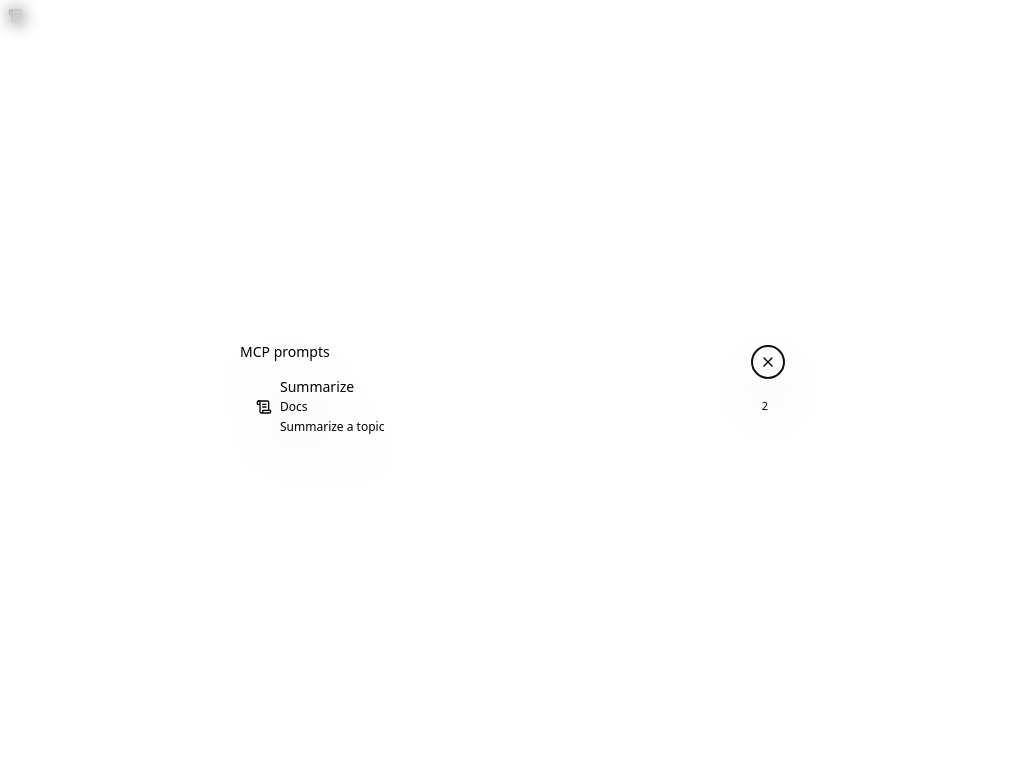
MCP picker workflows › reports prompt resolution invalid failures without losing arguments
The width and height of the screenshot is (1024, 768).
Click the button "Summarize Docs Summarize a topic 2".
click(264, 407)  # box [232,382,792,430]
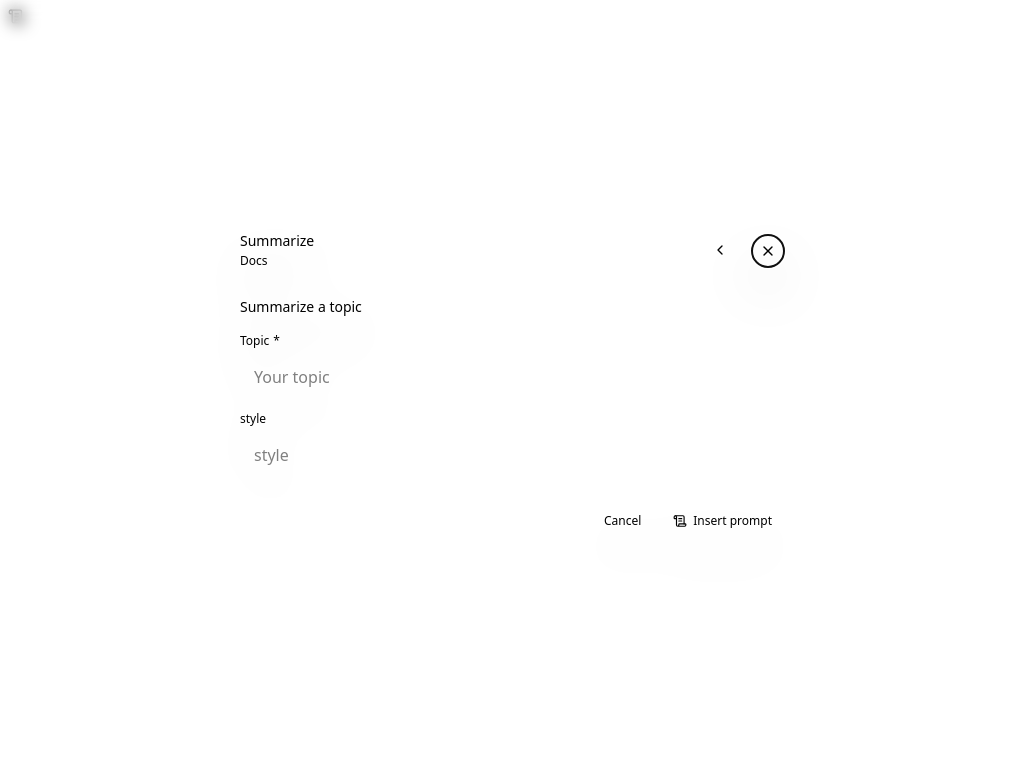
Type "keep me" into the field labelled "Topic *".
click(512, 377); type("keep me")  # box [240,355,784,399]
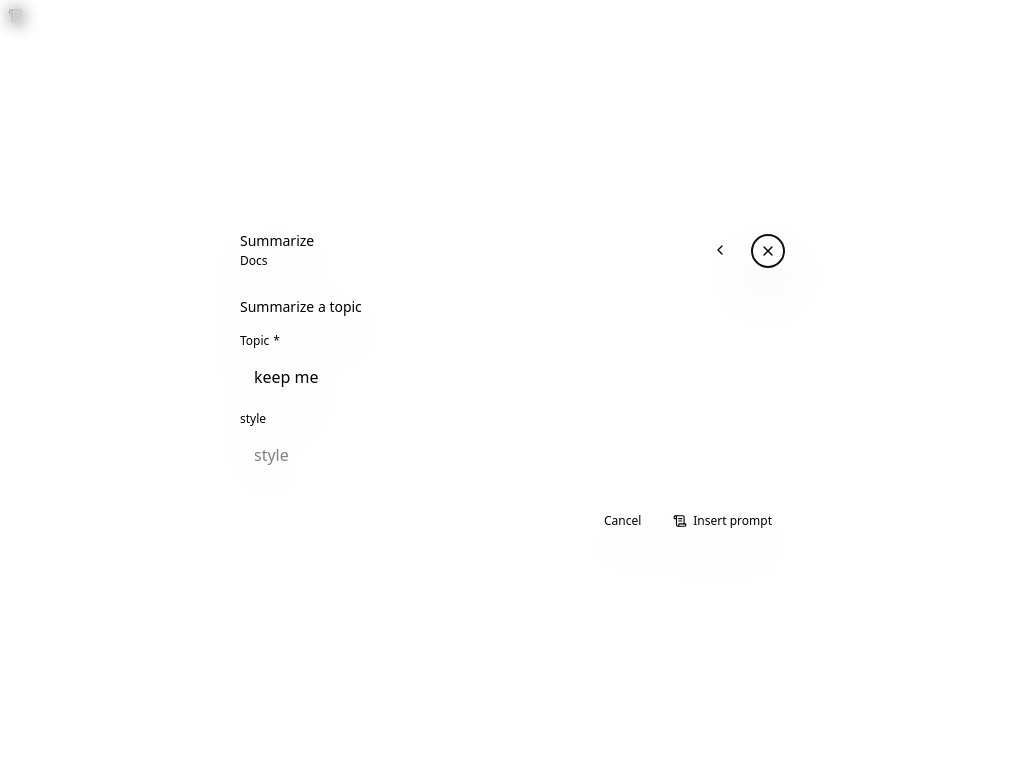
Submit the form labelled "Summarize a topic Topic * style Cancel Insert prompt", box [224,281,800,549]
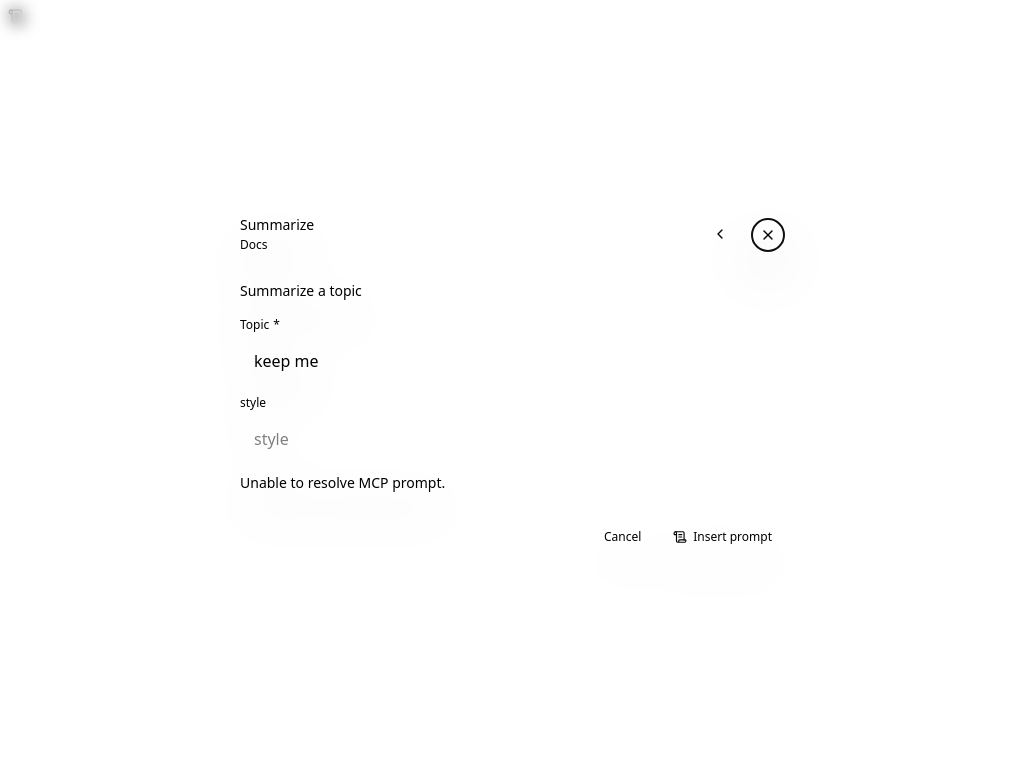
Check: the message "Unable to resolve MCP prompt." is shown, box [240,473,445,492]
